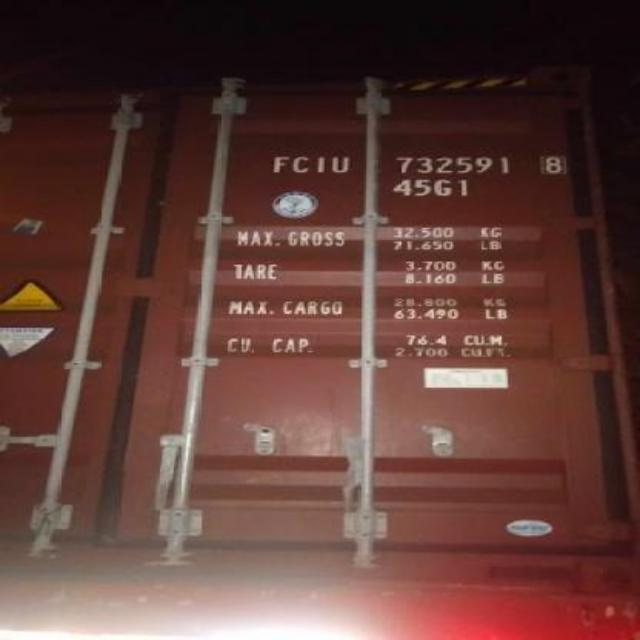1: (494, 152, 520, 178)
2: (436, 154, 456, 178)
3: (414, 155, 436, 175)
5: (450, 156, 476, 174)
7: (396, 154, 414, 176)
8: (542, 150, 570, 178)
9: (464, 151, 490, 175)
C: (290, 156, 310, 178)
F: (260, 152, 292, 178)
I: (302, 153, 330, 177)
U: (330, 150, 356, 180)
